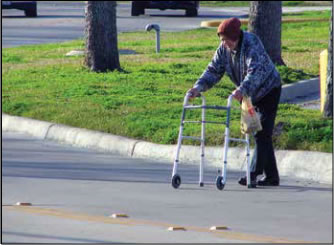person: (217, 18, 279, 185)
